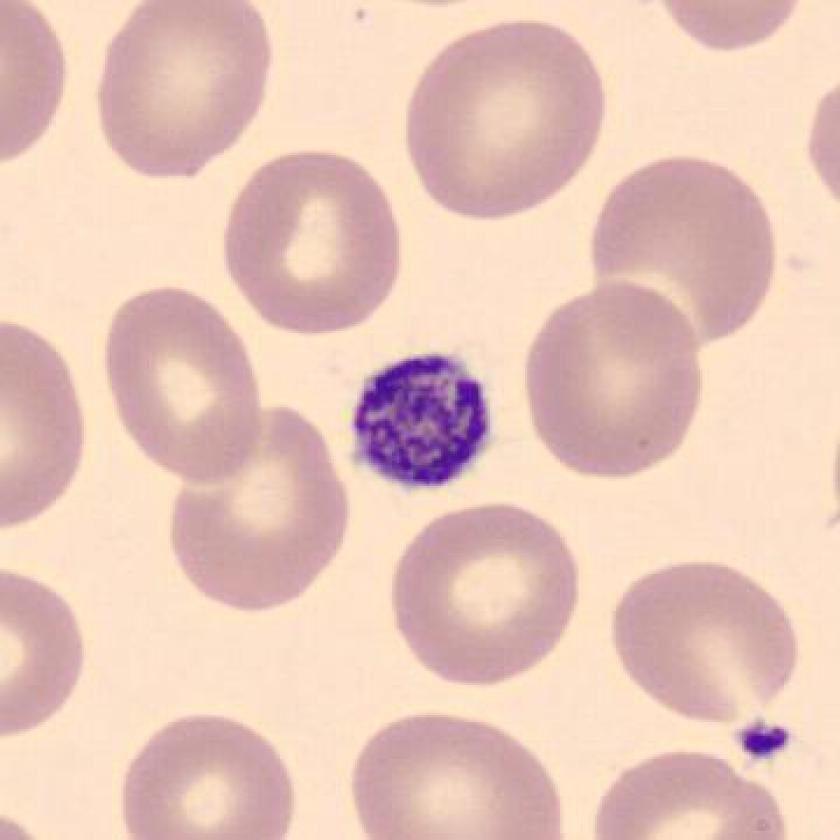platelets: (337, 341, 507, 501)
